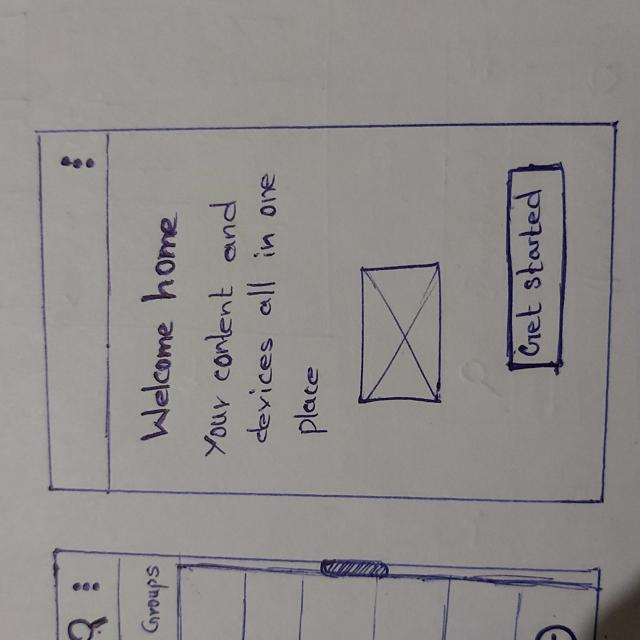ActionButton: (34, 149, 112, 188)
AppBar: (33, 127, 114, 494)
Button: (505, 160, 569, 377)
Icon: (60, 155, 99, 172)
Image: (359, 263, 447, 406)
MainLayout: (25, 120, 616, 516)
TextView: (204, 172, 328, 459), (140, 215, 175, 446)
